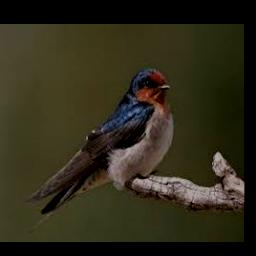Swallow: (23, 68, 175, 233)
